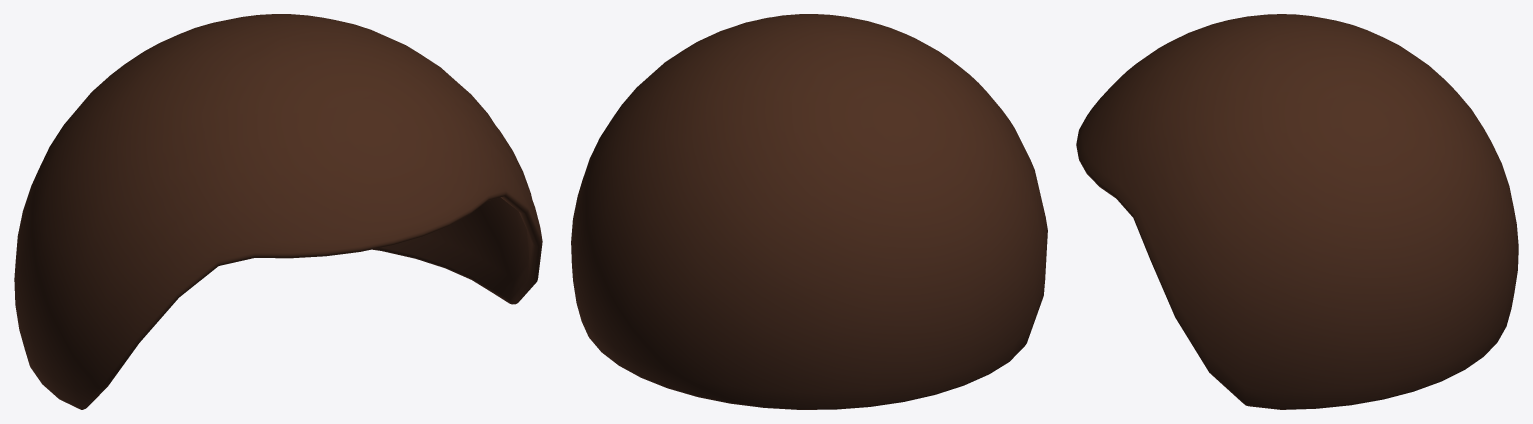
Rendered from hair_buzz.glb.
The picture shows the model from 3 angles, left to right: view 1: azimuth 30°, elevation 25°; view 2: azimuth 150°, elevation 25°; view 3: azimuth 270°, elevation 25°; orthographic projection. The views are drawn at different scales.
Parts seen in each view (by area): view 1: Hair; view 2: Hair; view 3: Hair.
Part boxes in pixels (x1,y1,x2,y2): Hair: (14,14,542,409); Hair: (571,14,1047,409); Hair: (1076,14,1518,409).
Size of the model in its own units: 2.06 by 1.32 by 1.9.
